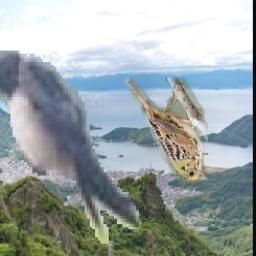Sparrow: (122, 78, 208, 185)
Swallow: (0, 51, 141, 245)
